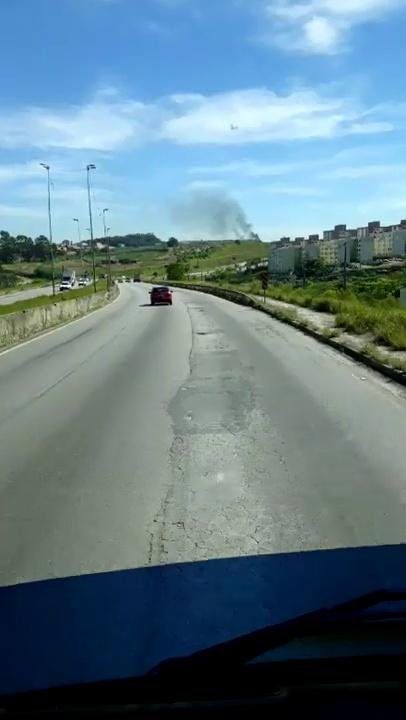Smoke: (158, 176, 270, 246)
